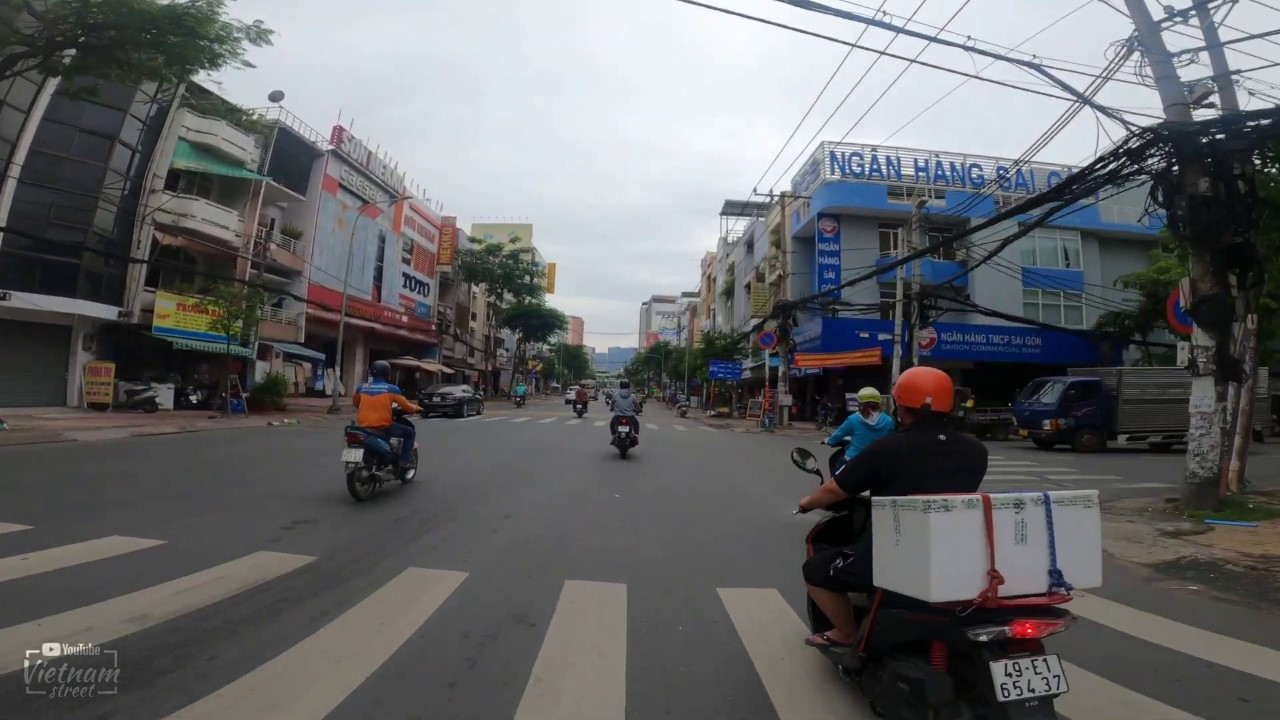cam_do_xe: (756, 330, 777, 350)
